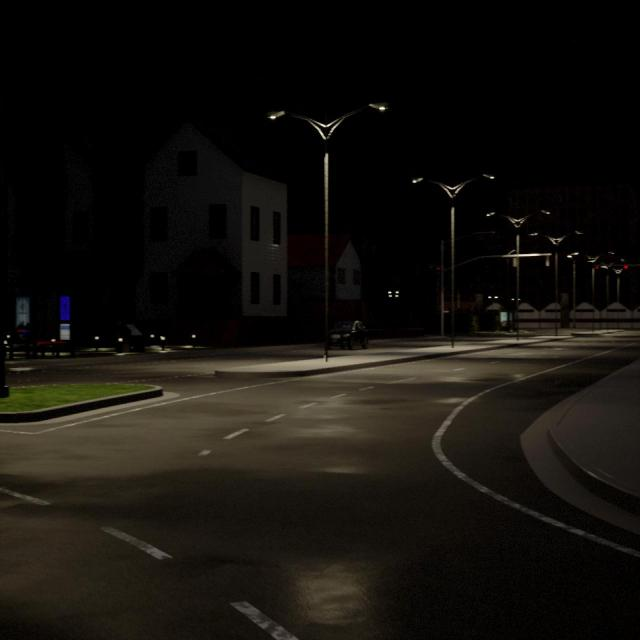Vehicle: (328, 321, 367, 350)
traffic_light: (624, 264, 628, 270), (595, 266, 599, 270), (436, 266, 440, 270), (429, 266, 432, 269)
